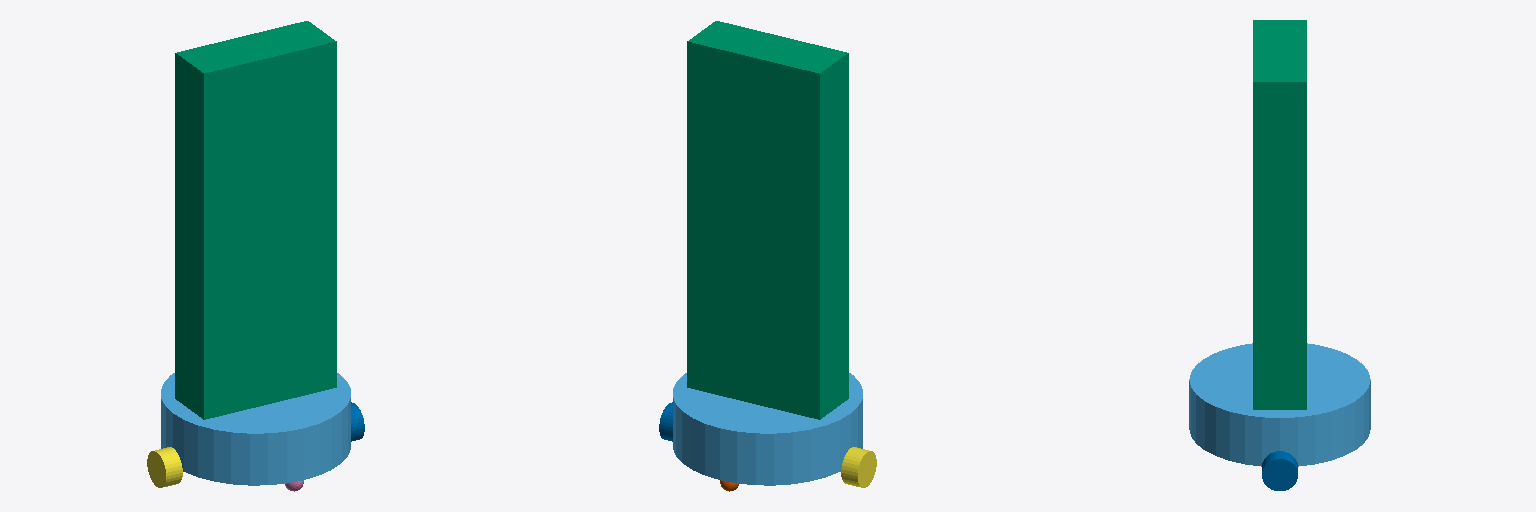
URDF robot description (plan_bot):
<?xml version="1.0"?>
<robot name="plan_bot">

  <link name="base_footprint">
  </link>

  <joint name="base_joint" type="fixed">
    <parent link="base_footprint"/>
    <child link="base_link"/>
    <origin xyz="0.0 0.0 0.10" rpy="0 0 0"/>
  </joint>
  <!-- Base Link -->
  <link name="base_link">
    <collision name="base_link_collision">
      <geometry>
        <cylinder radius="0.25" length="0.15"/>
      </geometry>
    </collision>
    <visual name="base_link_visual">
      <geometry>
        <cylinder radius="0.25" length="0.15"/>
      </geometry>
    </visual>
    <inertial>
      <mass value="5.0"/>
      <inertia ixx="0.013" ixy="0.0" ixz="0.0" iyy="0.013" iyz="0.0" izz="0.0025"/>
    </inertial>
  </link>

  <!-- Body Link -->
  <link name="body_link">
    <origin xyz="0 0 0.575" rpy="0 0 0"/>
    <visual name="body_link_visual">
      <geometry>
        <box size="0.4 0.15 1"/>
      </geometry>
    </visual>
    <inertial>
      <mass value="0.5"/>
      <inertia ixx="0.15" ixy="0.0" ixz="0.0" iyy="0.15" iyz="0.0" izz="0.01"/>
    </inertial>
  </link>

  <!-- Wheel Link 1 -->
  <link name="wheel_link_1">
    <origin xyz="-0.275 0 -0.075" rpy="0 0 0"/>
    <collision name="wheel_link_1_collision">
    <origin xyz="0 0 0" rpy="0 -1.57 0"/>
      <geometry>
        <cylinder radius="0.05" length="0.05"/>
      </geometry>
    </collision>
    <visual name="wheel_link_1_visual">
    <origin xyz="0 0 0" rpy="0 -1.57 0"/>
      <geometry>
        <cylinder radius="0.05" length="0.05"/>
      </geometry>
    </visual>
    <inertial>
      <mass value="0.2"/>
      <inertia ixx="0.0005" ixy="0.0" ixz="0.0" iyy="0.0005" iyz="0.0" izz="0.0001"/>
    </inertial>
  </link>

  <!-- Wheel Link 2 -->
  <link name="wheel_link_2">
    <origin xyz="0.275 0 -0.075" rpy="0 0 0"/>
    <collision name="wheel_link_2_collision">
        <origin xyz="0 0 0" rpy="0 -1.57 0"/>
      <geometry>
        <cylinder radius="0.05" length="0.05"/>
      </geometry>
    </collision>
    <visual name="wheel_link_2_visual">
        <origin xyz="0 0 0" rpy="0 -1.57 0"/>
      <geometry>
        <cylinder radius="0.05" length="0.05"/>
      </geometry>
    </visual>
    <inertial>
      <mass value="0.2"/>
      <inertia ixx="0.0005" ixy="0.0" ixz="0.0" iyy="0.0005" iyz="0.0" izz="0.0001"/>
    </inertial>
  </link>

  <!-- Castor 1 -->
  <link name="castor_1">
    <origin xyz="0 0.20 -0.10" rpy="0 0 0"/>
    <visual name="visual">
      <geometry>
        <sphere radius="0.025"/>
      </geometry>
    </visual>
    <collision name="collision">
      <geometry>
        <sphere radius="0.025"/>
      </geometry>
    </collision>
    <inertial>
      <mass value="0.1"/>
      <inertia ixx="0.0005" ixy="0.0" ixz="0.0" iyy="0.0005" iyz="0.0" izz="0.0001"/>
    </inertial>
  </link>

  <!-- Castor 2 -->
  <link name="castor_2">
    <origin xyz="0 -0.20 -0.10" rpy="0 0 0"/>
    <visual name="visual">
      <geometry>
        <sphere radius="0.025"/>
      </geometry>
    </visual>
    <collision name="collision">
      <geometry>
        <sphere radius="0.025"/>
      </geometry>
    </collision>
    <inertial>
      <mass value="0.1"/>
      <inertia ixx="0.0005" ixy="0.0" ixz="0.0" iyy="0.0005" iyz="0.0" izz="0.0001"/>
    </inertial>
  </link>

  <!-- IMU Link -->
  <link name="imu_link"/>

  <!-- Base Scan -->
  <link name="base_scan">
    <origin xyz="-0.020 0 0.161" rpy="0 0 0"/>
    <inertial>
      <mass value="0.114"/>
      <inertia ixx="0.001" ixy="0.0" ixz="0.0" iyy="0.001" iyz="0.0" izz="0.001"/>
    </inertial>
    <collision name="lidar_sensor_collision">
      <geometry>
        <cylinder radius="0.0508" length="0.055"/>
      </geometry>
    </collision>
    <visual name="lidar_sensor_visual">
      <geometry>
        <cylinder radius="0.0508" length="0.055"/>
      </geometry>
    </visual>
  </link>

  <!-- Joints -->
  <joint name="base_to_body_joint" type="fixed">
    <parent link="base_link"/>
    <child link="body_link"/>
    <origin xyz="0 0 0.575" rpy="0 0 0"/>
  </joint>

  <joint name="wheel_1_joint" type="continuous">
    <parent link="base_link"/>
    <child link="wheel_link_1"/>
    <origin xyz="-0.275 0 -0.075" rpy="0 0 0"/>
    <axis xyz="1 0 0"/>
  </joint>

  <joint name="wheel_2_joint" type="continuous">
    <parent link="base_link"/>
    <child link="wheel_link_2"/>
    <origin xyz="0.275 0 -0.075" rpy="0 0 0"/>
    <axis xyz="1 0 0"/>
  </joint>

  <joint name="castor_1_joint" type="fixed">
    <parent link="base_link"/>
    <child link="castor_1"/>
    <origin xyz="0 0.20 -0.10" rpy="0 0 0"/>
  </joint>

  <joint name="castor_2_joint" type="fixed">
    <parent link="base_link"/>
    <child link="castor_2"/>
    <origin xyz="0 -0.20 -0.10" rpy="0 0 0"/>
  </joint>

  <joint name="imu_joint" type="fixed">
    <parent link="base_link"/>
    <child link="imu_link"/>
    <origin xyz="-0.032 0 0.068" rpy="0 0 0"/>
  </joint>

  <joint name="lidar_joint" type="fixed">
    <parent link="base_link"/>
    <child link="base_scan"/>
    <origin xyz="-0.032 0 0.171" rpy="0 0 0"/>
  </joint>

</robot>

--- Render facts (derived) ---
Views: 3 orthographic renders of the robot side by side, from view 1: azimuth 30°, elevation 25°; view 2: azimuth 150°, elevation 25°; view 3: azimuth 270°, elevation 25°.
Robot: plan_bot — 9 links, 8 joints (2 continuous, 6 fixed); root link base_footprint; default pose: every joint at zero.
Links seen in each view (by area): view 1: body_link, base_link, wheel_link_1; view 2: body_link, base_link, wheel_link_1; view 3: body_link, base_link, wheel_link_2.
Boxes of the visible links, bbox=[...] form: body_link: bbox=[175, 21, 336, 419]; base_link: bbox=[161, 373, 350, 485]; wheel_link_1: bbox=[147, 447, 182, 487]; body_link: bbox=[687, 21, 848, 419]; base_link: bbox=[673, 373, 862, 485]; wheel_link_1: bbox=[841, 447, 876, 487]; body_link: bbox=[1253, 20, 1306, 409]; base_link: bbox=[1189, 343, 1370, 466]; wheel_link_2: bbox=[1262, 451, 1297, 490].
Size in the robot's own frame: 0.6001 by 0.5 by 1.2 metres.
Geometry: primitives only (box / cylinder / sphere), no mesh files.